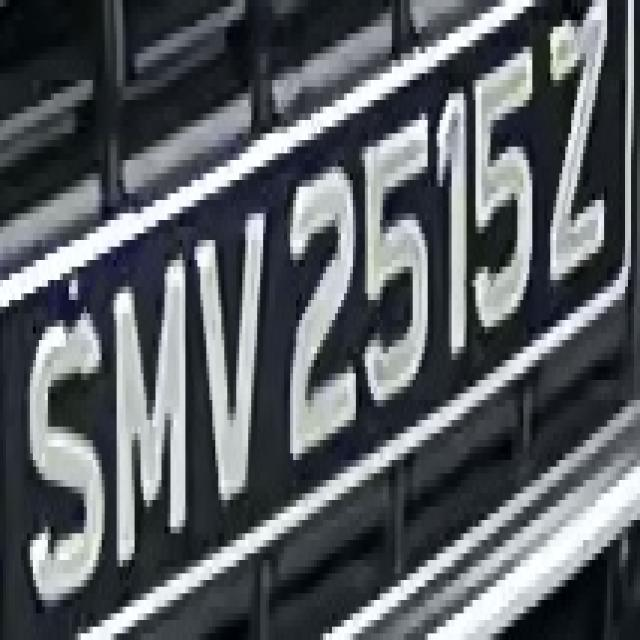1: (442, 60, 478, 387)
2: (272, 147, 368, 473)
5: (368, 114, 442, 414), (472, 46, 542, 346)
M: (108, 233, 191, 560)
S: (24, 294, 111, 594)
V: (192, 193, 270, 520)
Z: (541, 7, 616, 300)
